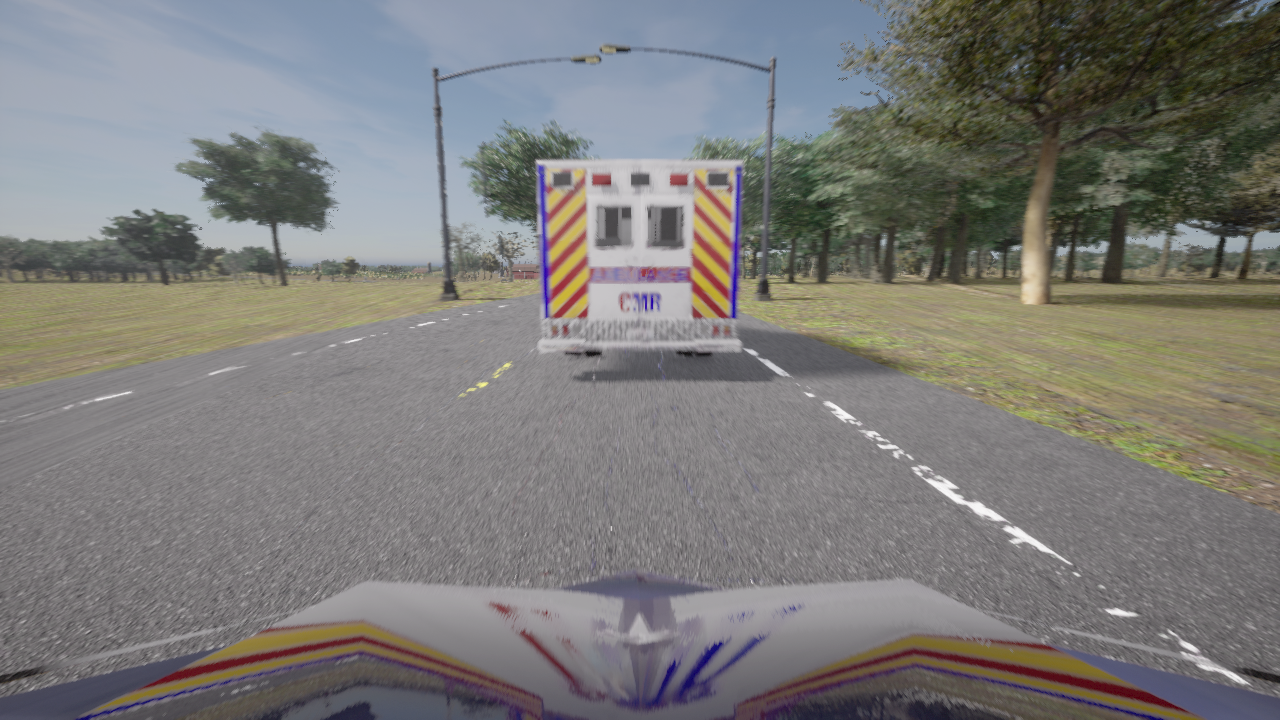cyclist: (0, 570, 1279, 719), (537, 160, 743, 357)
